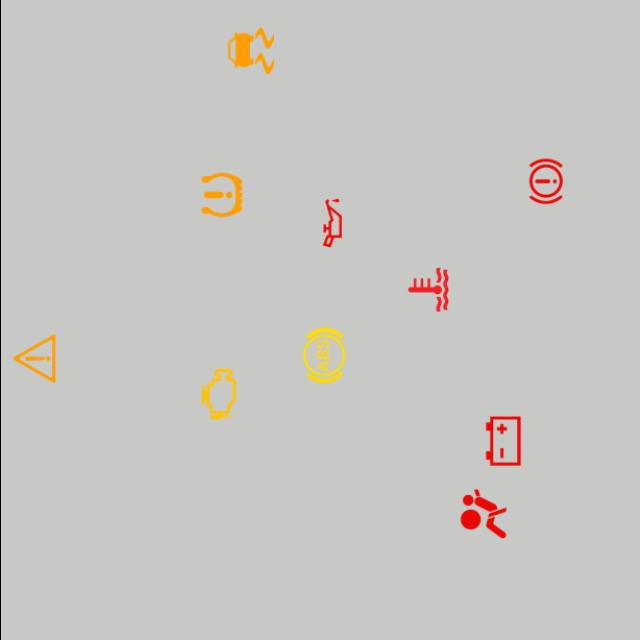Anti Lock Braking System: (293, 326, 353, 386)
Braking System Issue: (515, 152, 575, 212)
Charging System Issue: (472, 411, 532, 471)
Check Engine: (188, 364, 248, 424)
Electronic Stability Problem -ESP-: (220, 21, 280, 81)
Engine Overheating Warning Light: (398, 260, 458, 320)
Low Engine Oil Warning Light: (302, 193, 362, 253)
Low Tire Pressure Warning Light: (191, 165, 251, 225)
Master warning light: (4, 328, 64, 388)
SRS-Airbag: (452, 484, 512, 544)
